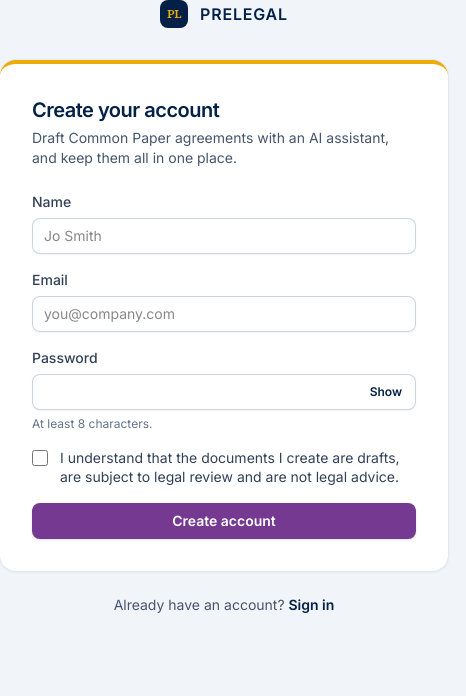
Test: SignUpForm › needs a name, an email, a password of at least 8 characters and the disclaimer accepted
This screenshot has width=466, height=696.
Step 1. Type "jo@" into the field labelled "Email" → (224, 314), box left=32, top=296, right=416, bottom=332
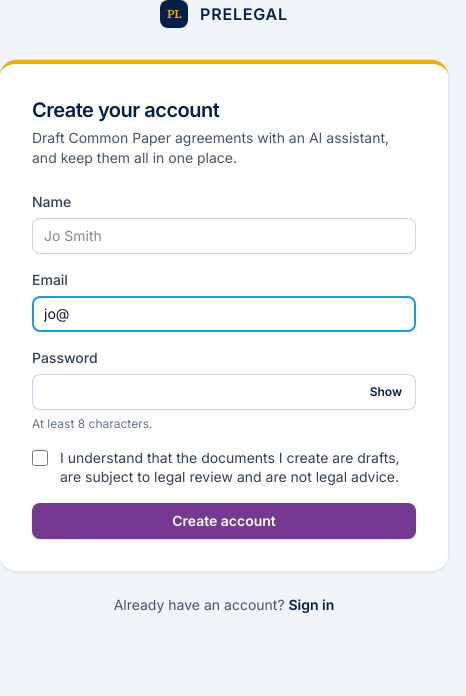
Step 2. Type "short" into the password field labelled "Password" → (224, 392), box left=32, top=374, right=416, bottom=410
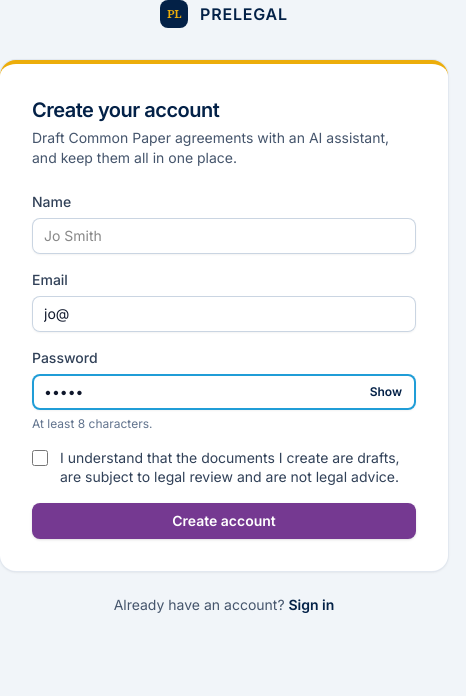
Step 3. Click the button "Create account" → (224, 520), box left=32, top=502, right=416, bottom=538
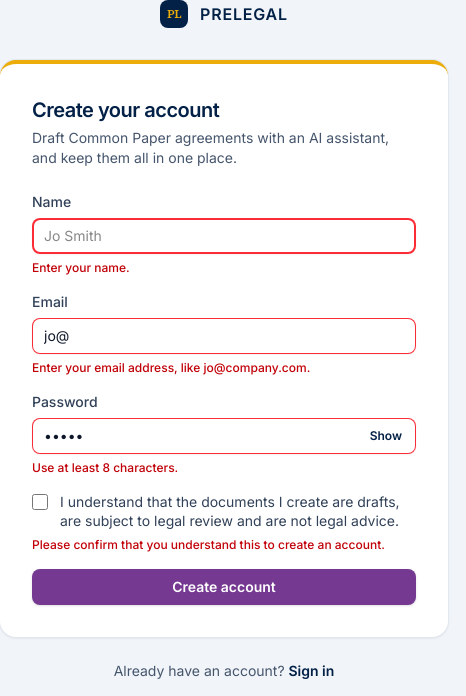
Expected: the text "Enter your name." is shown, left=32, top=260, right=130, bottom=275
Expected: the text "Enter your email address, like jo@company.com." is shown, left=32, top=360, right=310, bottom=375
Expected: the text "Use at least 8 characters." is shown, left=32, top=460, right=178, bottom=475
